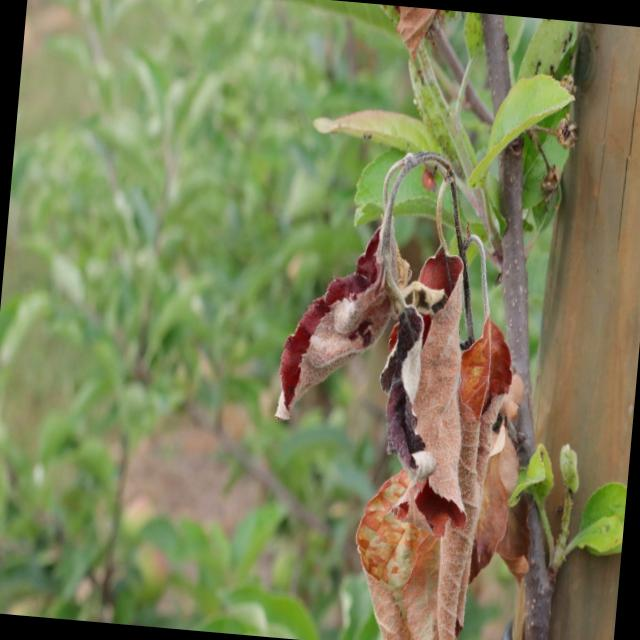-FireBlight-: (235, 133, 552, 640)
